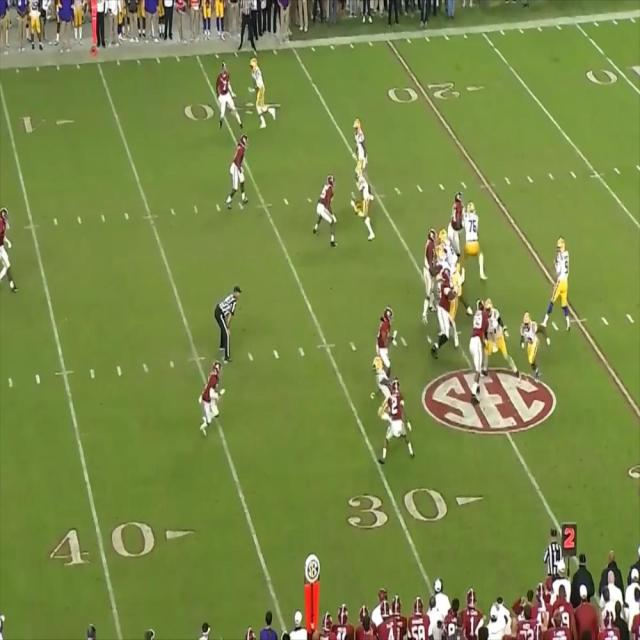db: (386, 383, 410, 462), (202, 365, 221, 436), (1, 207, 17, 290), (230, 134, 248, 204), (218, 66, 235, 127)
lb: (375, 301, 396, 400), (421, 229, 438, 323), (313, 177, 336, 241)
qb: (552, 237, 570, 322)
skill: (354, 169, 374, 242), (520, 312, 540, 378), (251, 58, 268, 124), (378, 352, 391, 422), (352, 116, 366, 168)
